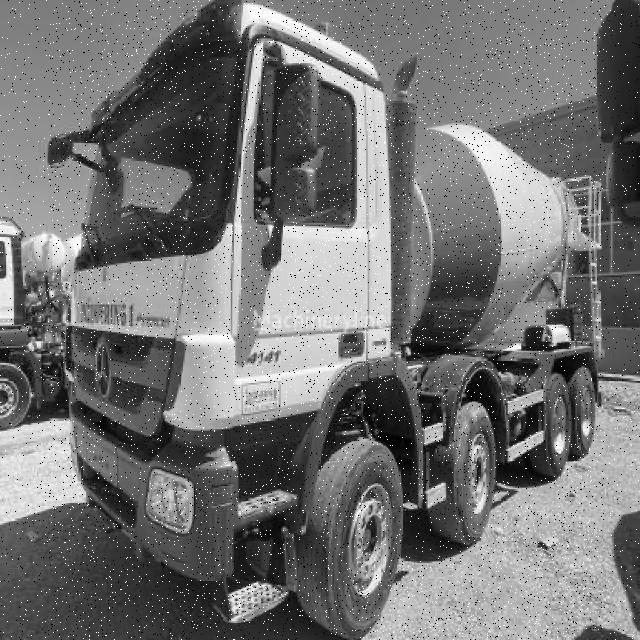Concrete Mixer: (48, 0, 605, 640)
